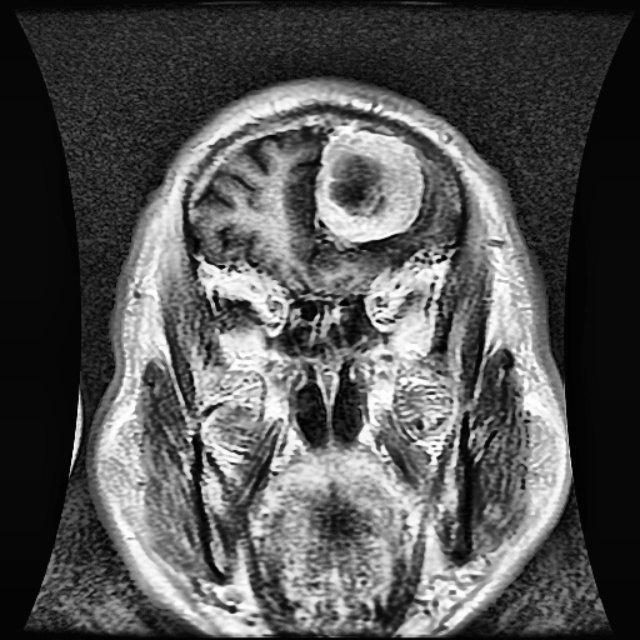Glioma: (314, 123, 424, 242)
